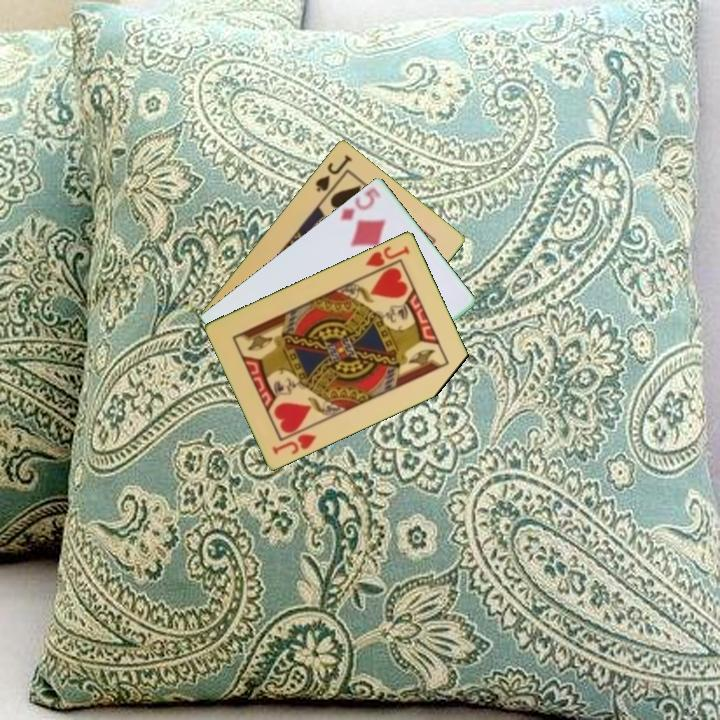5d: (337, 183, 381, 224)
Jh: (362, 242, 413, 270), (269, 430, 320, 457)
Js: (312, 151, 355, 194)
